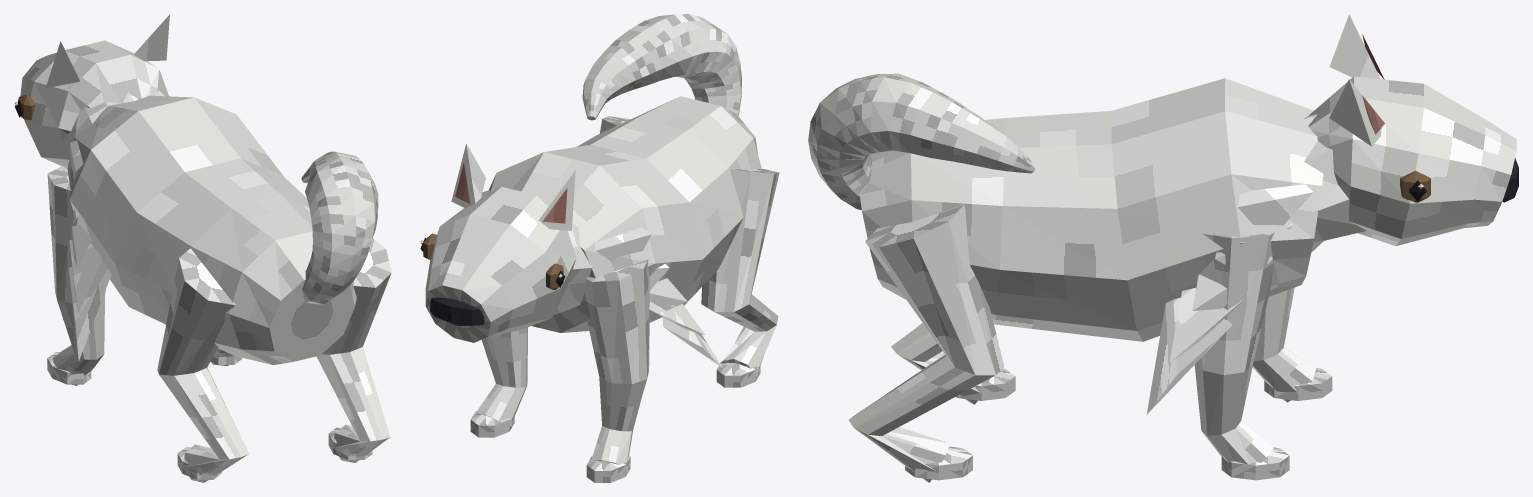
Rendered from mon_dog_samoyed_pup.glb.
3 renders of one model, left to right at view 1: azimuth 30°, elevation 25°; view 2: azimuth 150°, elevation 25°; view 3: azimuth 270°, elevation 25°, orthographic. The views are drawn at different scales.
Visible parts, largest first — view 1: closed_body; view 2: closed_body; view 3: closed_body.
Boxes of the visible parts, x1=… form: closed_body: x1=14, y1=14, x2=391, y2=482; closed_body: x1=420, y1=14, x2=779, y2=482; closed_body: x1=808, y1=14, x2=1518, y2=482.
Bounding box in the file's own units: 0.1449 × 0.1881 × 0.3059.
1 material, 1 textured.
